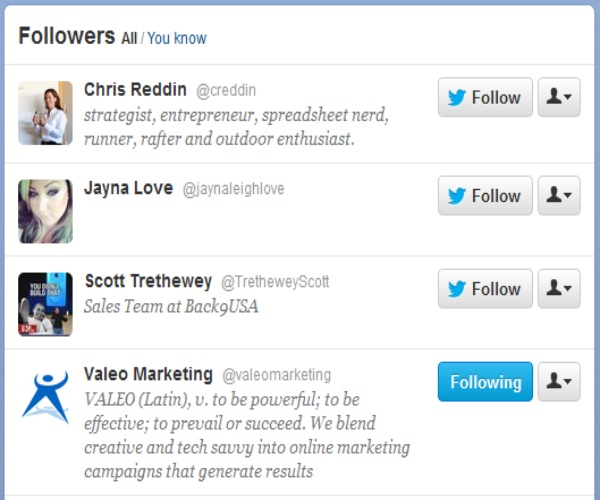following: (431, 354, 537, 408), (433, 70, 537, 123), (432, 263, 537, 313), (434, 172, 537, 220)
